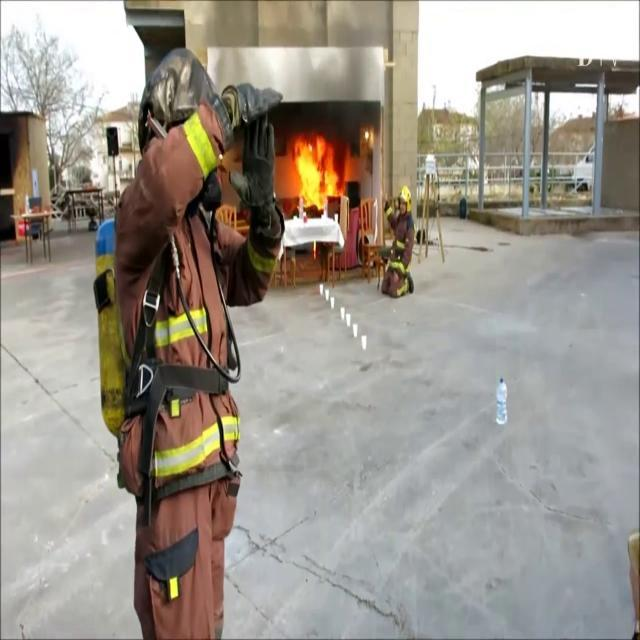Fire: (284, 132, 350, 212)
